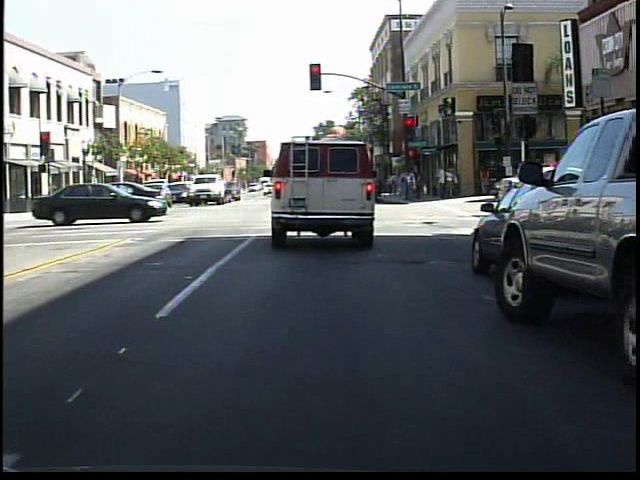person: (475, 160, 495, 197)
